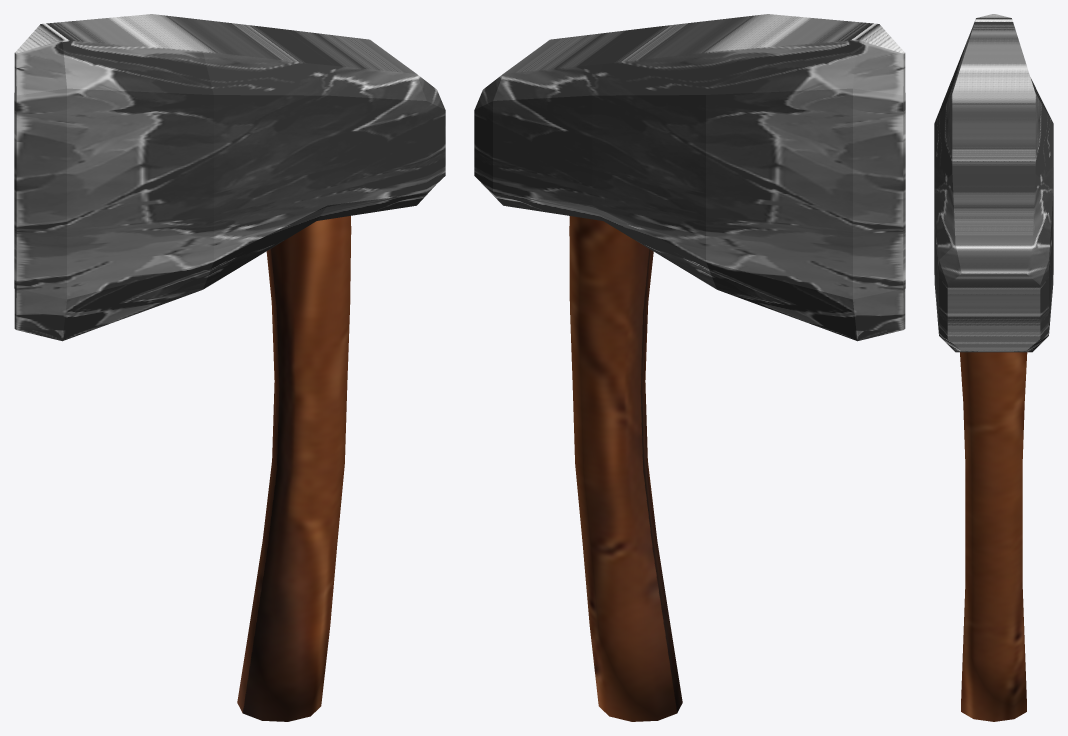
Rendered from asset.glb.
3 views of the same model, side by side, from view 1: azimuth 30°, elevation 25°; view 2: azimuth 150°, elevation 25°; view 3: azimuth 270°, elevation 25° (orthographic). The views are drawn at different scales.
Visible parts, largest first — view 1: AxeBlade, RecoveredHandle; view 2: AxeBlade, RecoveredHandle; view 3: AxeBlade, RecoveredHandle.
Boxes of the visible parts, left/top/right/bottom form: AxeBlade: left=14, top=14, right=445, bottom=341; RecoveredHandle: left=237, top=216, right=351, bottom=721; AxeBlade: left=474, top=14, right=905, bottom=341; RecoveredHandle: left=569, top=216, right=682, bottom=721; AxeBlade: left=934, top=14, right=1053, bottom=352; RecoveredHandle: left=960, top=352, right=1027, bottom=721.
Size of the model in its own units: 0.9014 by 1.56 by 0.2825.
Materials: 2 (2 with a texture image).
